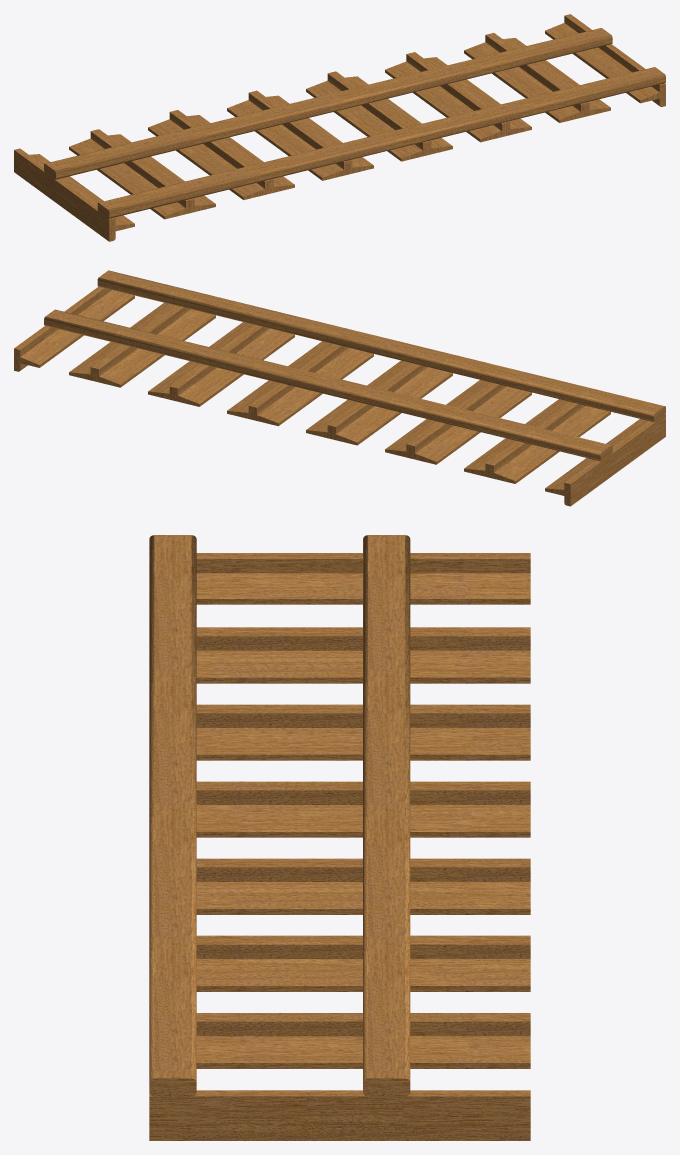
The model's file is VCKC0050.glb.
The picture shows the model from 3 angles, top to bottom: view 1: azimuth 30°, elevation 25°; view 2: azimuth 150°, elevation 25°; view 3: azimuth 270°, elevation 25°; orthographic projection. The views are drawn at different scales.
Visible parts, largest first — view 1: G-No_Name_071; view 2: G-No_Name_071; view 3: G-No_Name_071.
Boxes of the visible parts, x1,y1,x2,y2 form: G-No_Name_071: [14, 14, 665, 241]; G-No_Name_071: [14, 270, 665, 506]; G-No_Name_071: [149, 535, 530, 1140].
Size of the model in its own units: 0.812 by 0.0435 by 0.241.
2 materials, 2 textured.
